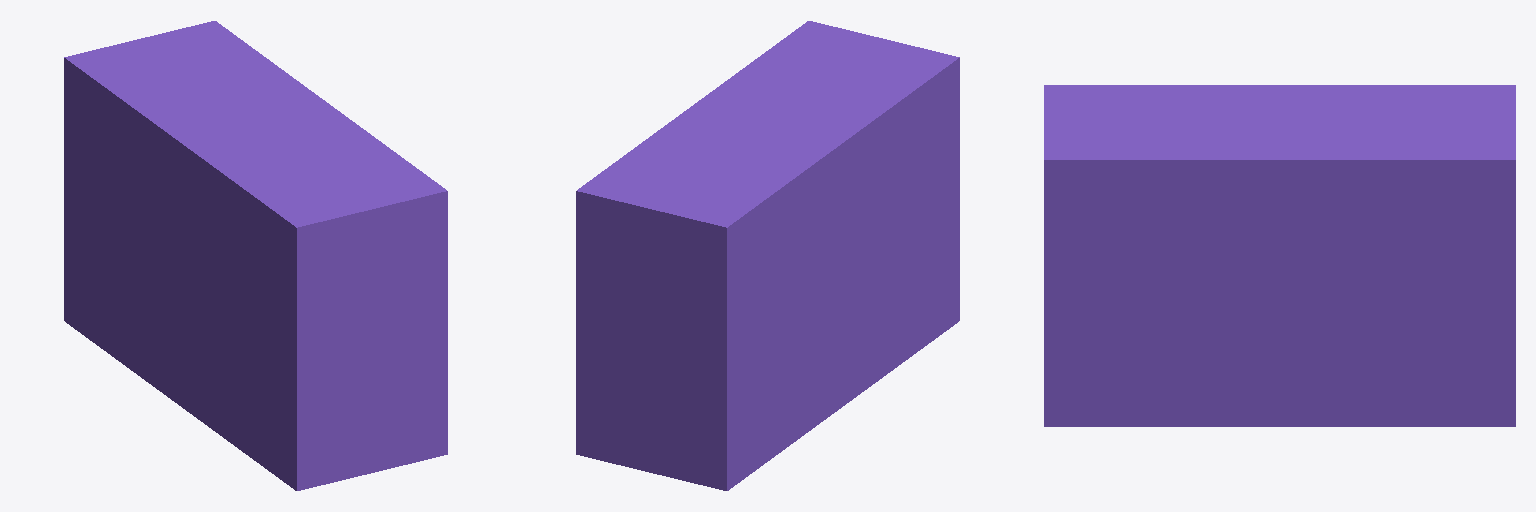
URDF robot description (cube):
<?xml version="1.0"?>
 <robot name="cube">
   <material name="purple">
     <color rgba="0.57647059 0.43921569 0.85882353 1"/>
   </material>
   <link name="base_link">
     <visual>
       <geometry>
         <box size="0.16 0.10 0.06"/>
       </geometry>
       <material name="purple"/>
       <origin xyz="0 0 0.1067185" rpy="1.5707963 0 1.5707963"/>
     </visual>
     <inertial>
       <mass value="0"/>
       <inertia ixx="1.0" ixy="0.0" ixz="0.0" iyy="1.0" iyz="0.0" izz="1.0"/>
     </inertial>
   </link>
 </robot>

--- What the picture shows (computed from the rendered views, not written in the file) ---
Views: 3 orthographic renders of the robot side by side, from view 1: azimuth 30°, elevation 25°; view 2: azimuth 150°, elevation 25°; view 3: azimuth 270°, elevation 25°.
Model cube with 1 links and 0 joints (none), rooted at base_link, posed every joint at zero.
Visible links, largest first — view 1: base_link; view 2: base_link; view 3: base_link.
Boxes of the visible links, left/top/right/bottom form: base_link: left=64, top=21, right=447, bottom=490; base_link: left=576, top=21, right=959, bottom=490; base_link: left=1044, top=85, right=1515, bottom=426.
Bounding box of the posed robot: 0.06 × 0.16 × 0.1 m (x, y, z).
Geometry: primitives only (box / cylinder / sphere), no mesh files.